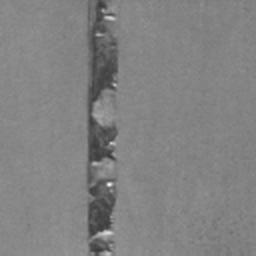Slag inclusion: (86, 0, 122, 256)
